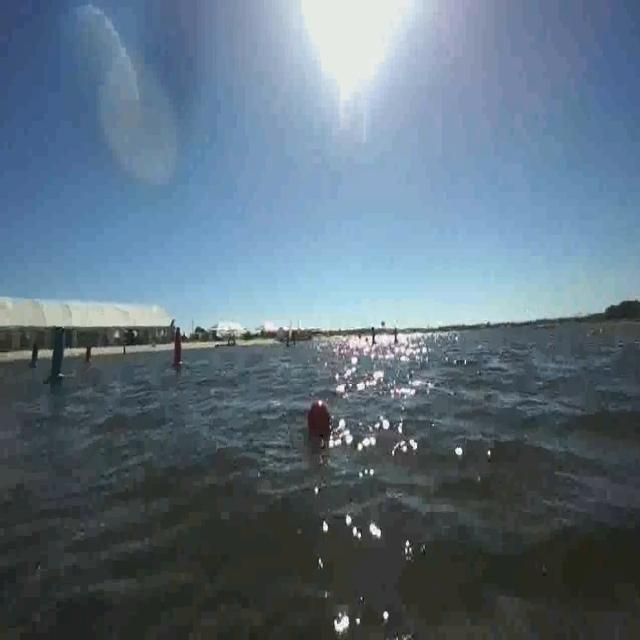green-column-buoy: (46, 329, 68, 383), (29, 340, 41, 368)
red-buoy: (306, 398, 333, 441)
red-column-buoy: (171, 330, 185, 369), (83, 345, 92, 365)
